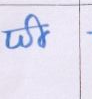i_matra: (28, 14, 48, 47)
